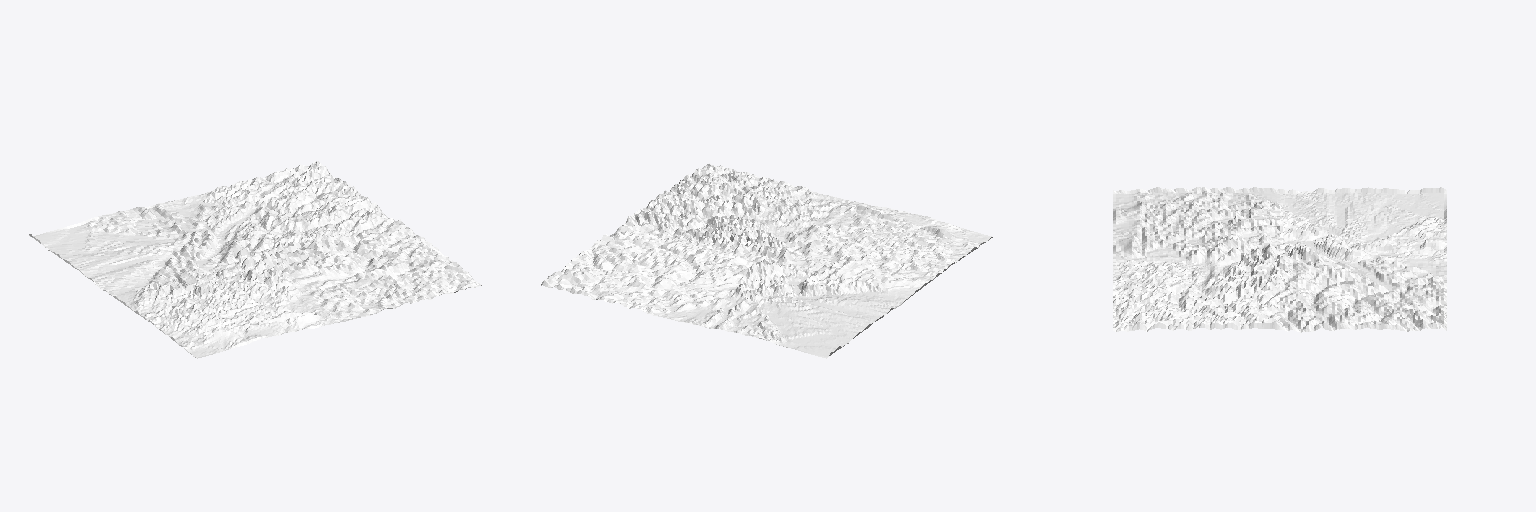
Rendered from grenobleTexFix7.obj.
3 views of the same model, side by side, from view 1: azimuth 30°, elevation 25°; view 2: azimuth 150°, elevation 25°; view 3: azimuth 270°, elevation 25° (orthographic).
Parts seen in each view (by area): view 1: Plane; view 2: Plane; view 3: Plane.
Part boxes in pixels (x1,y1,x2,y2): Plane: (29, 161, 481, 358); Plane: (541, 163, 992, 358); Plane: (1113, 187, 1446, 332).
Bounding box in the file's own units: 21.29 × 1.06 × 21.29.